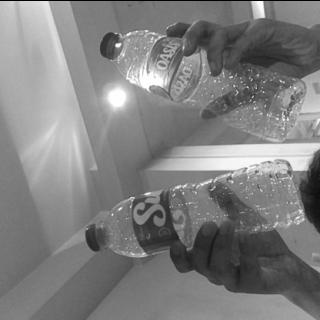plastic_bottles: (98, 29, 308, 144), (82, 156, 306, 258)
